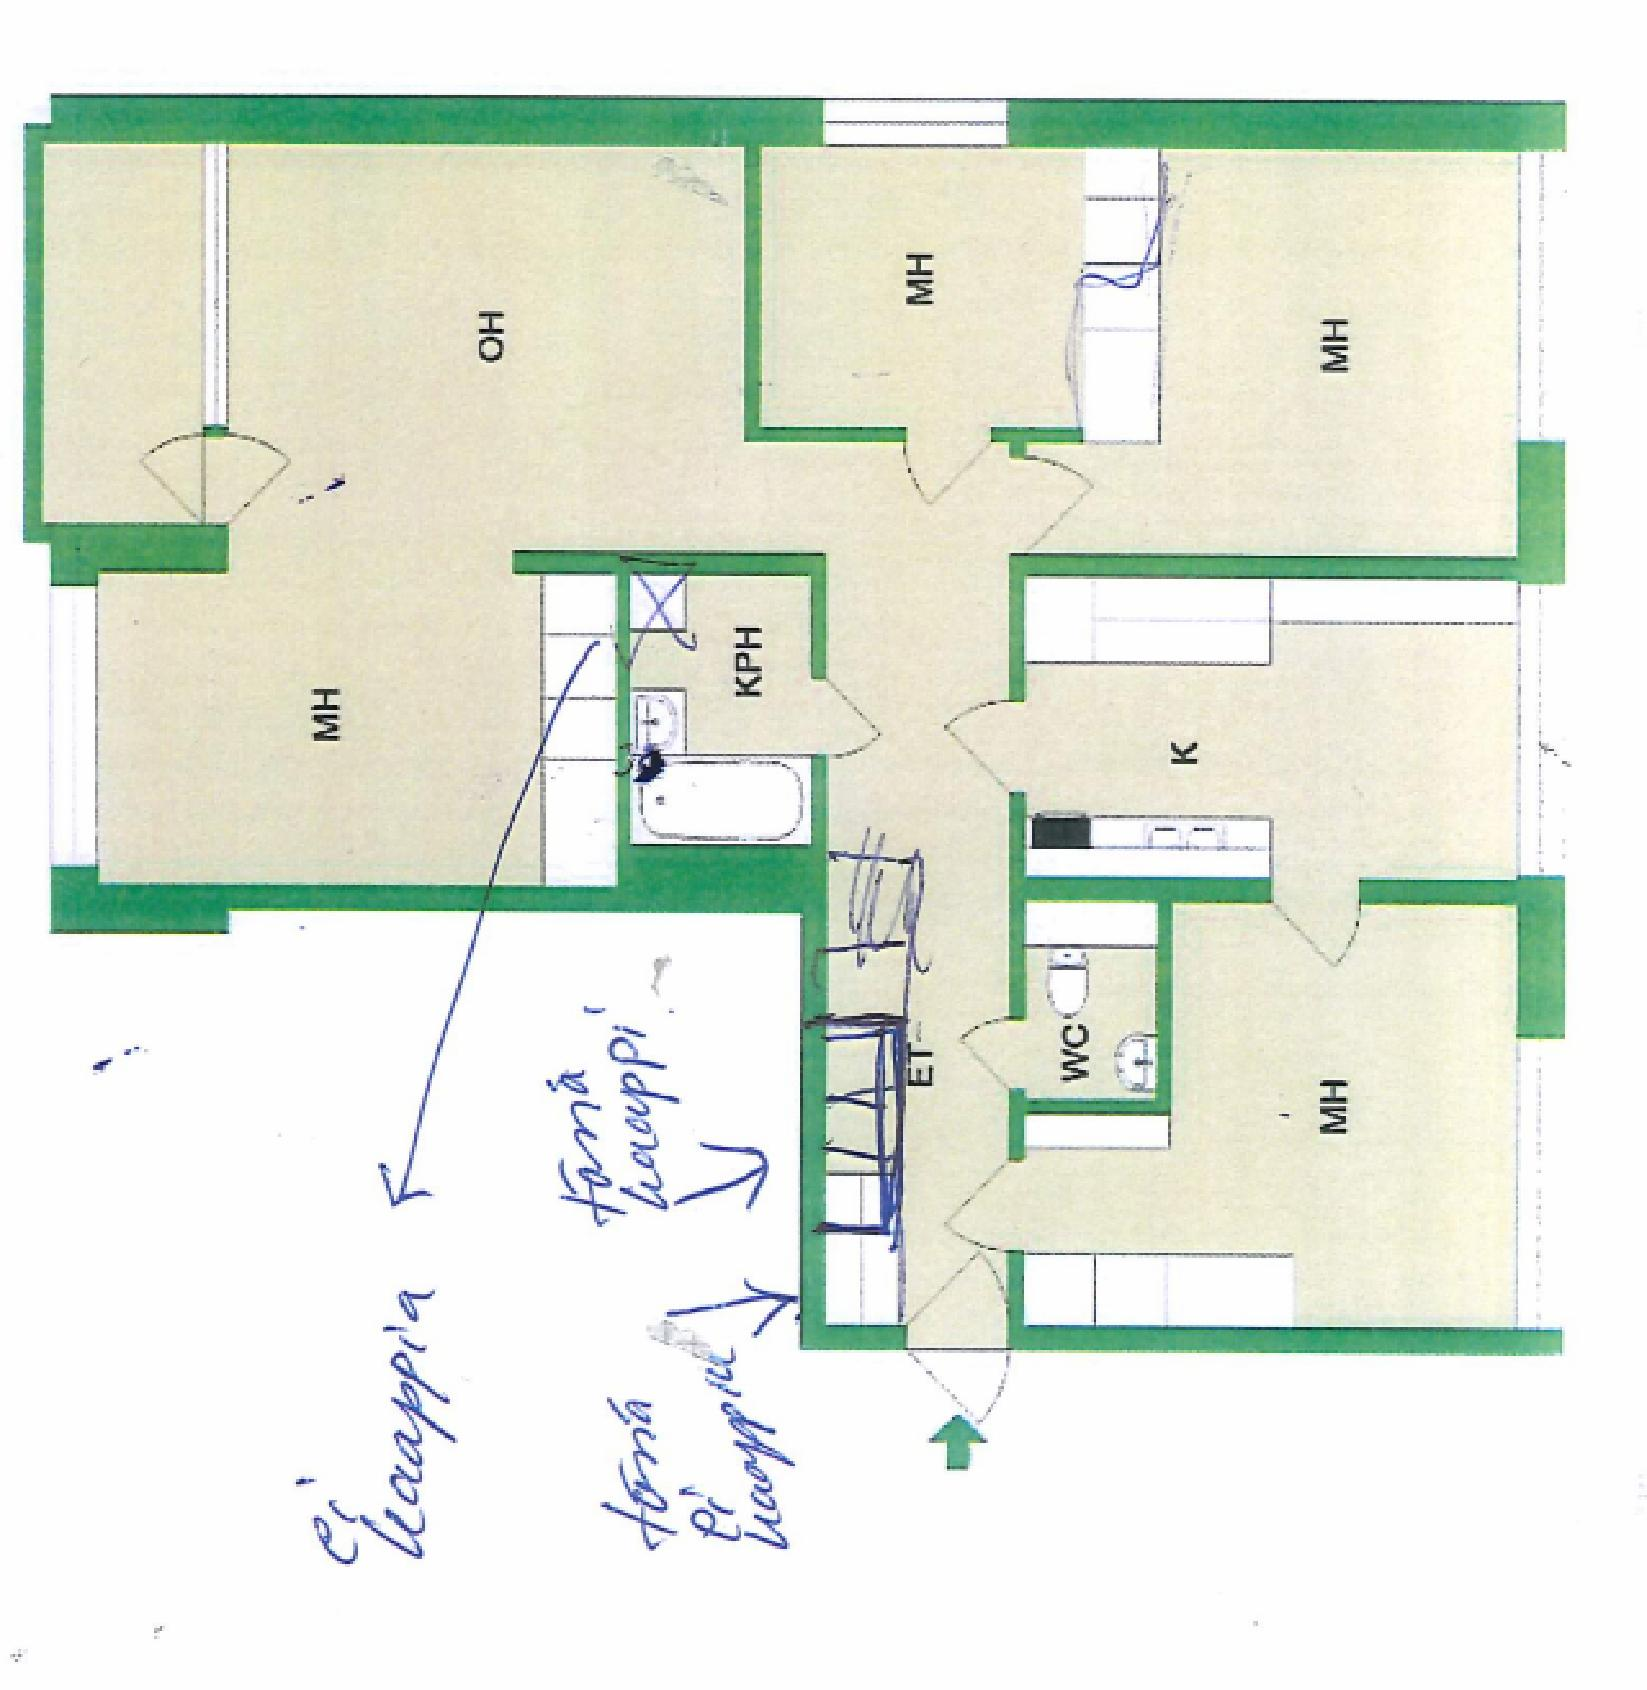door: (130, 422, 306, 533), (916, 1275, 1008, 1424), (1270, 875, 1369, 976), (1006, 447, 1086, 549), (937, 702, 1029, 785), (952, 1148, 1023, 1252), (902, 430, 986, 505), (811, 684, 881, 764), (959, 1019, 1023, 1094)
window: (1510, 578, 1572, 880), (1513, 148, 1563, 438), (1516, 1034, 1566, 1320), (817, 103, 1011, 152)
zone: (72, 152, 1513, 1332), (1018, 883, 1513, 1326), (1015, 566, 1504, 877), (756, 143, 1154, 430), (38, 139, 210, 518), (630, 570, 814, 848), (1017, 898, 1145, 1095)
